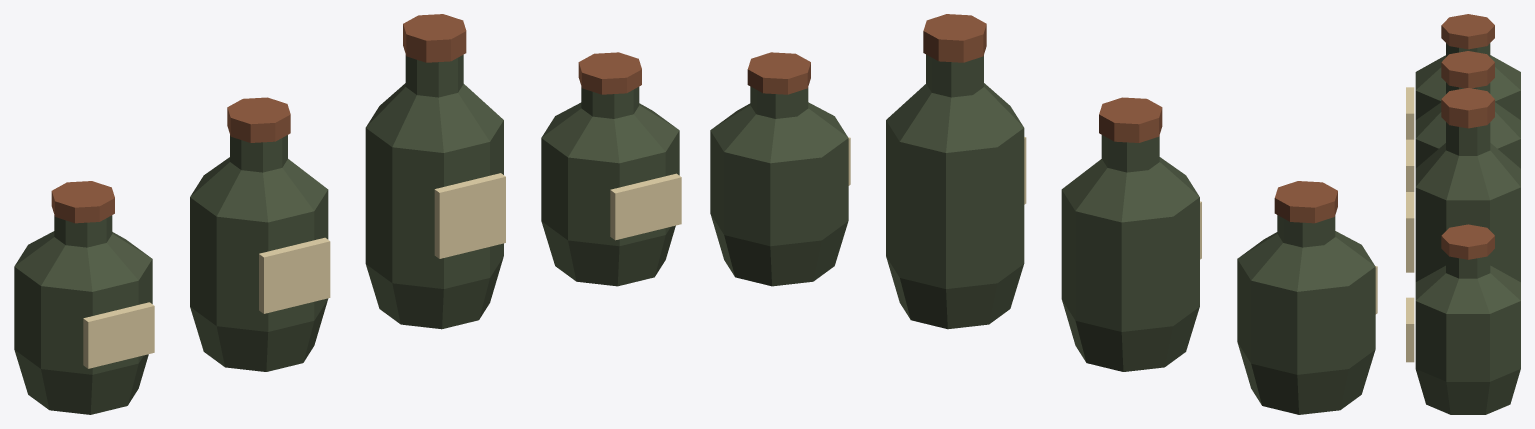
File: bottles_02.glb
The picture shows the model from 3 angles, left to right: view 1: azimuth 30°, elevation 25°; view 2: azimuth 150°, elevation 25°; view 3: azimuth 270°, elevation 25°; orthographic projection. The views are drawn at different scales.
Visible parts, largest first — view 1: N_02_Bottle, N_01_Bottle, N_03_Bottle, N_00_Bottle, N_02_Label, N_01_Label, N_00_Label, N_03_Label, N_02_Cork, N_01_Cork, N_03_Cork, N_00_Cork; view 2: N_02_Bottle, N_01_Bottle, N_03_Bottle, N_00_Bottle, N_02_Cork, N_01_Cork, N_03_Cork, N_00_Cork; view 3: N_03_Bottle, N_02_Bottle, N_00_Bottle, N_01_Bottle, N_02_Cork, N_01_Cork, N_00_Cork, N_03_Cork, N_02_Label, N_03_Label, N_00_Label, N_01_Label.
Boxes of the visible parts, bbox=[...] form: N_02_Bottle: bbox=[365, 54, 503, 329]; N_01_Bottle: bbox=[190, 135, 328, 371]; N_03_Bottle: bbox=[541, 86, 679, 286]; N_00_Bottle: bbox=[14, 215, 152, 414]; N_02_Label: bbox=[434, 173, 505, 258]; N_01_Label: bbox=[259, 237, 330, 313]; N_00_Label: bbox=[83, 302, 154, 368]; N_03_Label: bbox=[610, 173, 681, 240]; N_02_Cork: bbox=[403, 14, 466, 62]; N_01_Cork: bbox=[227, 97, 290, 142]; N_03_Cork: bbox=[578, 52, 641, 94]; N_00_Cork: bbox=[51, 181, 114, 223]; N_02_Bottle: bbox=[886, 54, 1024, 329]; N_01_Bottle: bbox=[1061, 135, 1199, 371]; N_03_Bottle: bbox=[710, 86, 848, 286]; N_00_Bottle: bbox=[1237, 215, 1375, 414]; N_02_Cork: bbox=[923, 14, 986, 62]; N_01_Cork: bbox=[1099, 97, 1162, 142]; N_03_Cork: bbox=[747, 52, 810, 94]; N_00_Cork: bbox=[1274, 181, 1337, 223]; N_03_Bottle: bbox=[1415, 253, 1520, 414]; N_02_Bottle: bbox=[1415, 122, 1520, 282]; N_00_Bottle: bbox=[1415, 43, 1520, 119]; N_01_Bottle: bbox=[1415, 82, 1520, 168]; N_02_Cork: bbox=[1441, 88, 1494, 128]; N_01_Cork: bbox=[1441, 51, 1494, 88]; N_00_Cork: bbox=[1441, 14, 1494, 49]; N_03_Cork: bbox=[1441, 224, 1494, 259]; N_02_Label: bbox=[1406, 192, 1414, 272]; N_03_Label: bbox=[1406, 297, 1414, 362]; N_00_Label: bbox=[1406, 87, 1414, 139]; N_01_Label: bbox=[1406, 139, 1414, 191].
Size of the model in its own units: 0.5816 by 0.2424 by 0.1108.
